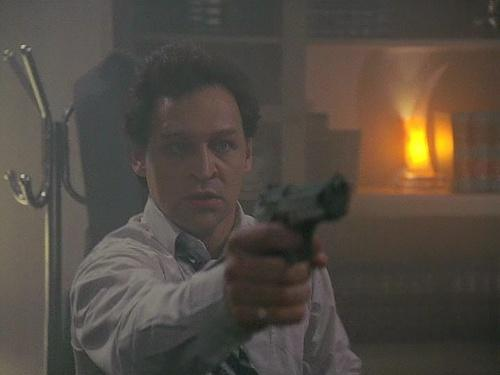Gun: (253, 171, 352, 259)
